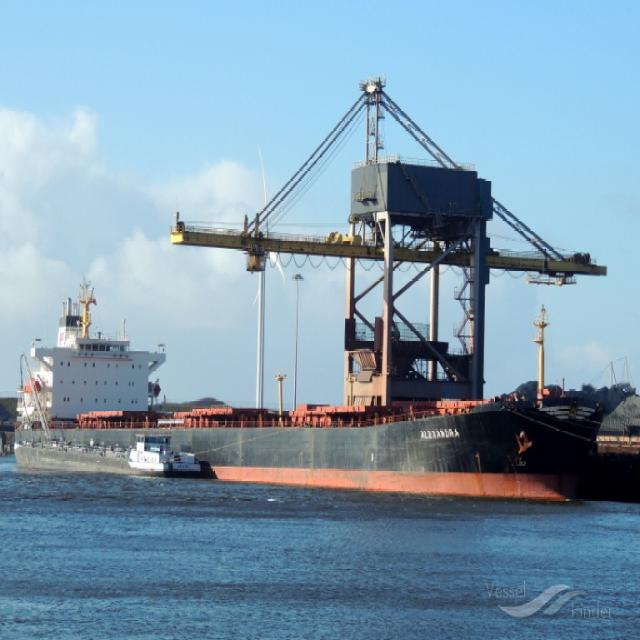OCR: (411, 418, 463, 441)
